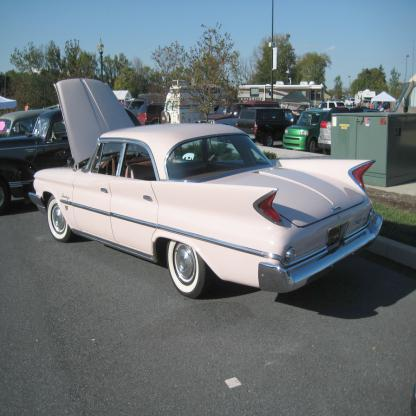Car: (0, 78, 385, 296)
